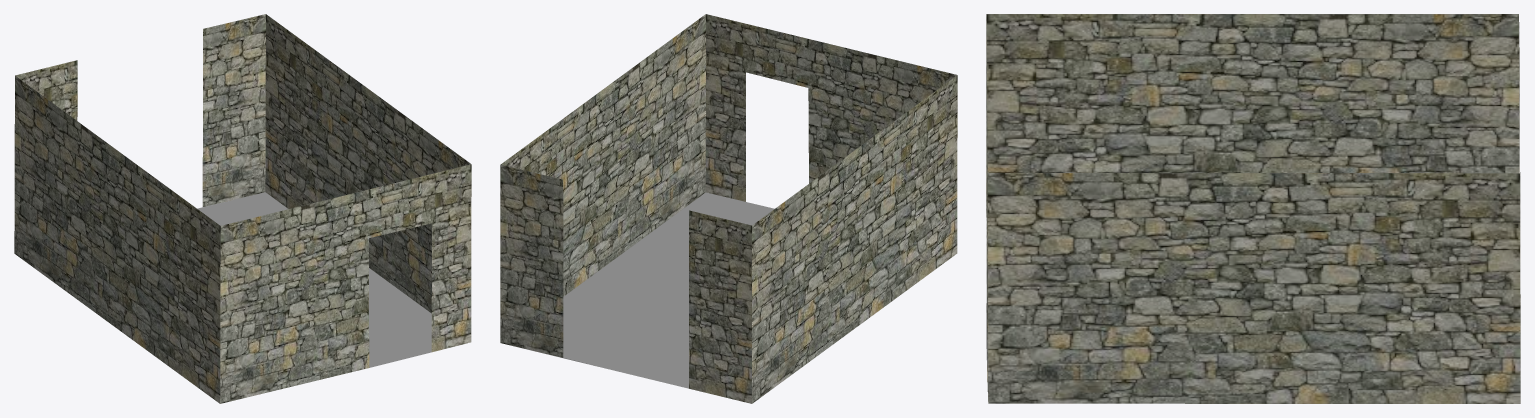
The model's file is mithraeumFBX.FBX.
3 renders of one model, left to right at view 1: azimuth 30°, elevation 25°; view 2: azimuth 150°, elevation 25°; view 3: azimuth 270°, elevation 25°, orthographic. The views are drawn at different scales.
Visible parts, largest first — view 1: Plane001; view 2: Plane001; view 3: Plane001.
Part boxes in pixels (box(x1,y1,x2,y2)): Plane001: box(14, 14, 471, 403); Plane001: box(500, 14, 957, 403); Plane001: box(986, 14, 1520, 403).
Size of the model in its own units: 265 by 180 by 377.
